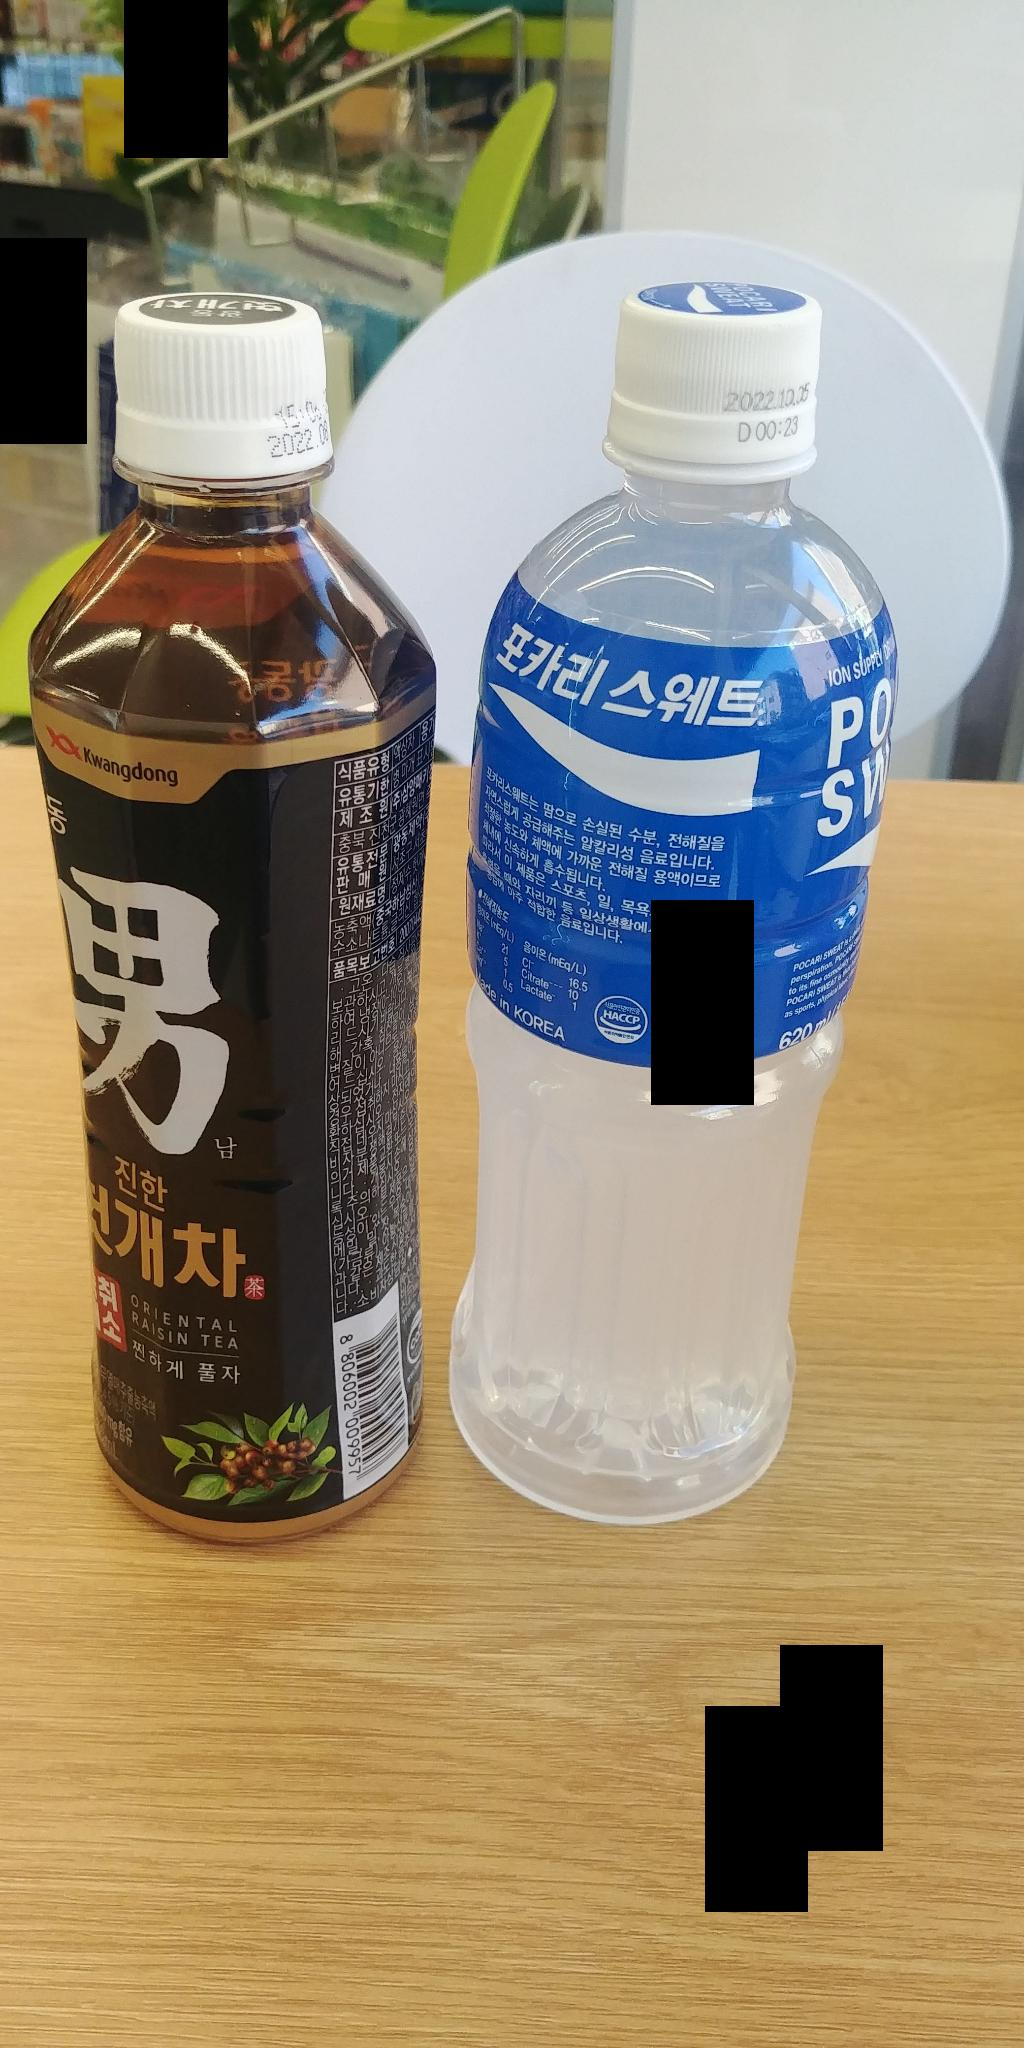heotgaecha: (16, 278, 451, 1550)
pocarisweat: (424, 234, 896, 1540)
